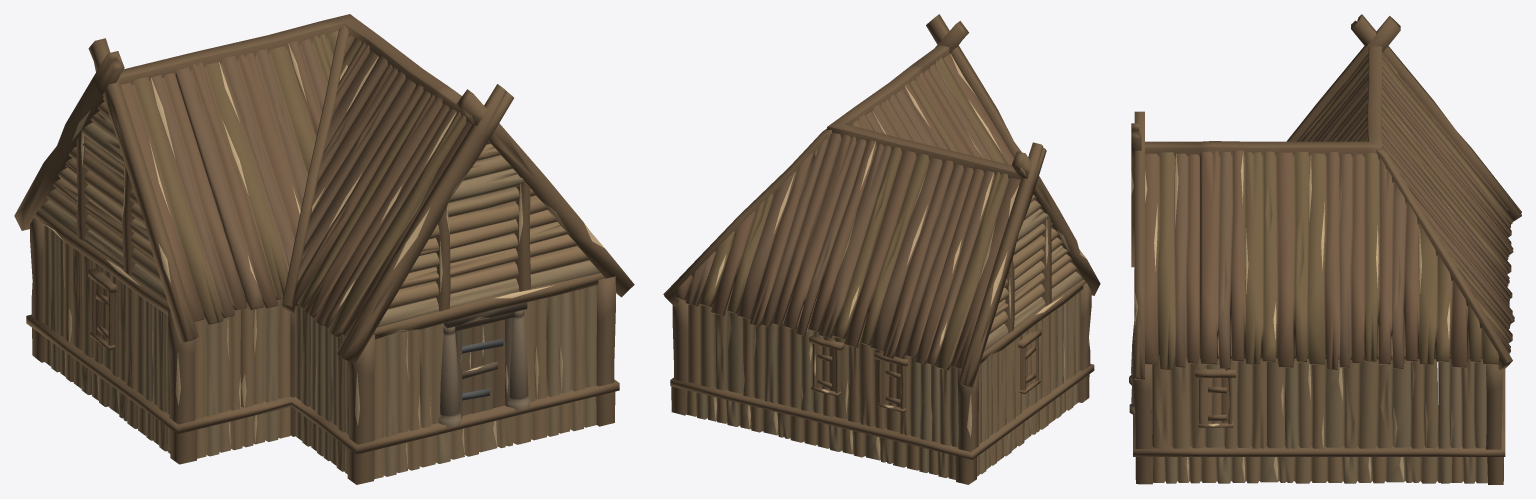
The model's file is House_5.gltf.
The picture shows the model from 3 angles, left to right: view 1: azimuth 30°, elevation 25°; view 2: azimuth 150°, elevation 25°; view 3: azimuth 270°, elevation 25°; orthographic projection. The views are drawn at different scales.
Parts seen in each view (by area): view 1: House_5; view 2: House_5; view 3: House_5.
Part boxes in pixels (box(x1,y1,x2,y2)): House_5: box(14, 14, 634, 484); House_5: box(663, 14, 1100, 484); House_5: box(1129, 14, 1521, 484).
Bounding box in the file's own units: 9.01 × 7.95 × 9.05.
Materials: 1 (1 with a texture image).
